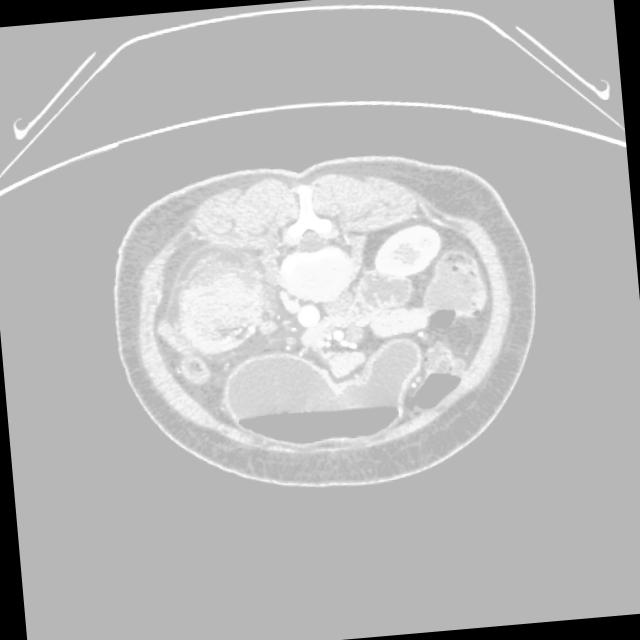TUMOR: (163, 234, 520, 456)
